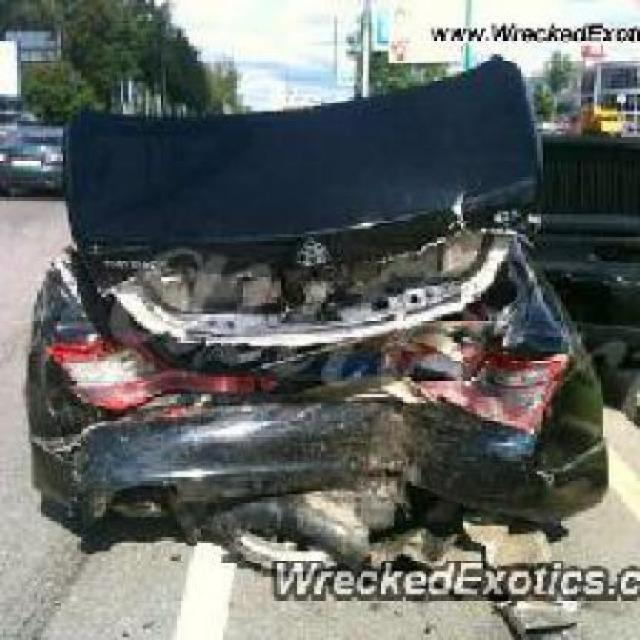damaged-front-bumper: (71, 400, 611, 514)
damaged-trunk: (91, 244, 522, 388)
